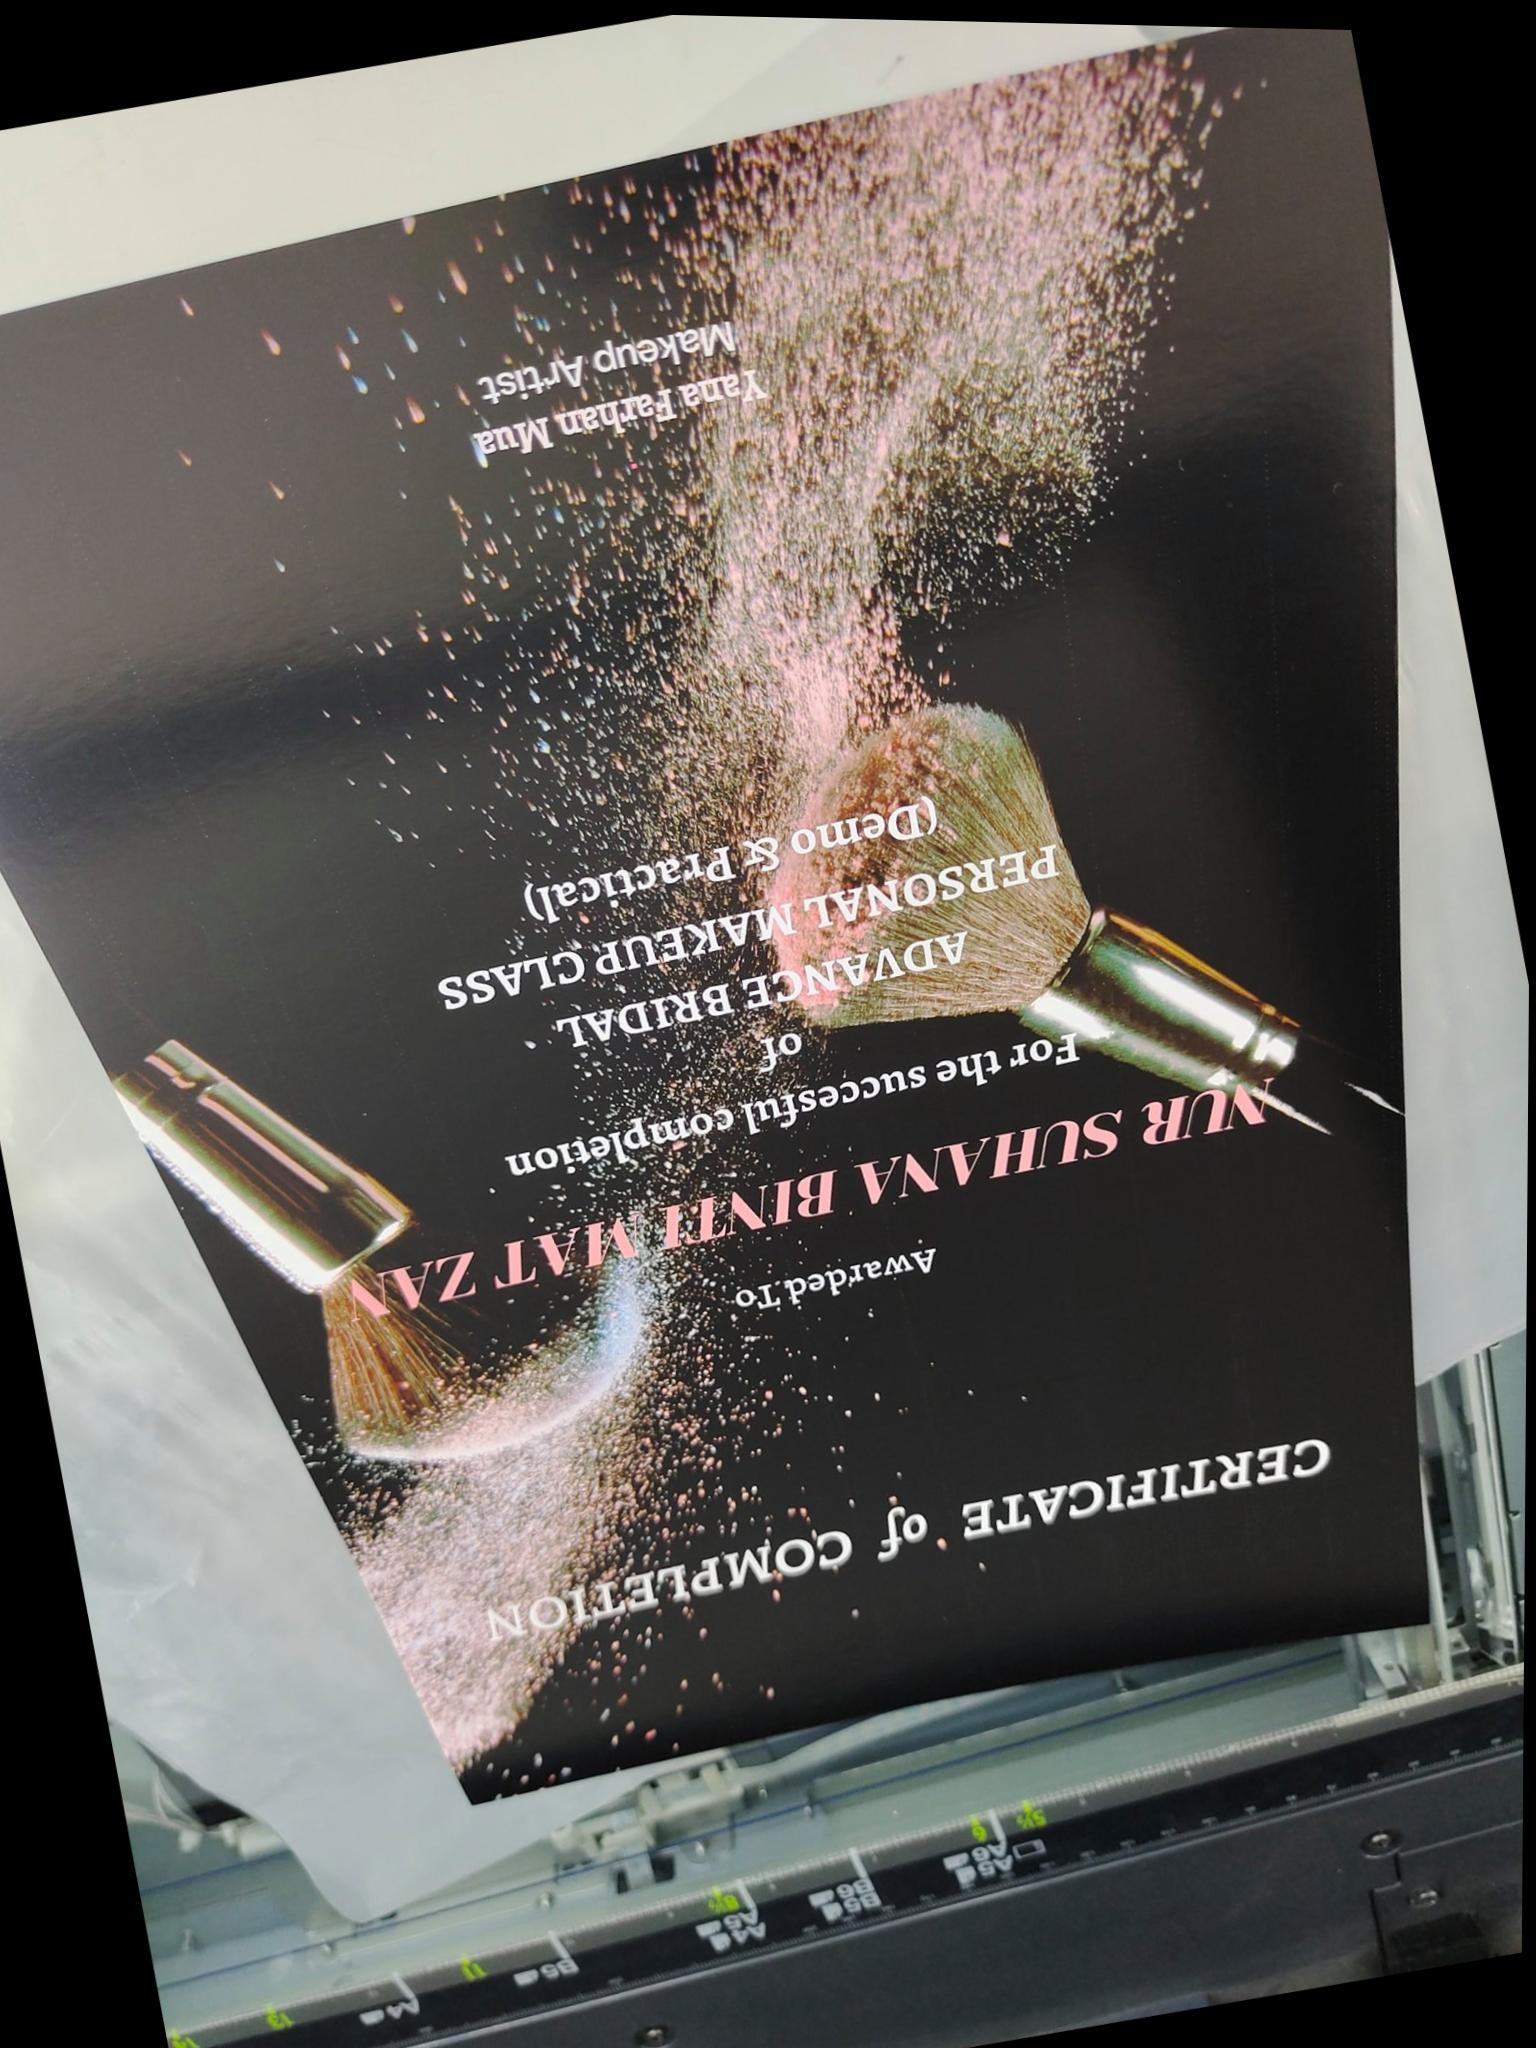paper: (0, 8, 1526, 2046)
